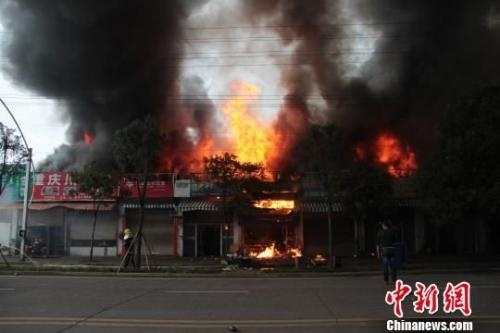fire: (177, 81, 285, 173), (360, 132, 418, 178), (247, 239, 302, 260), (253, 194, 297, 212)
